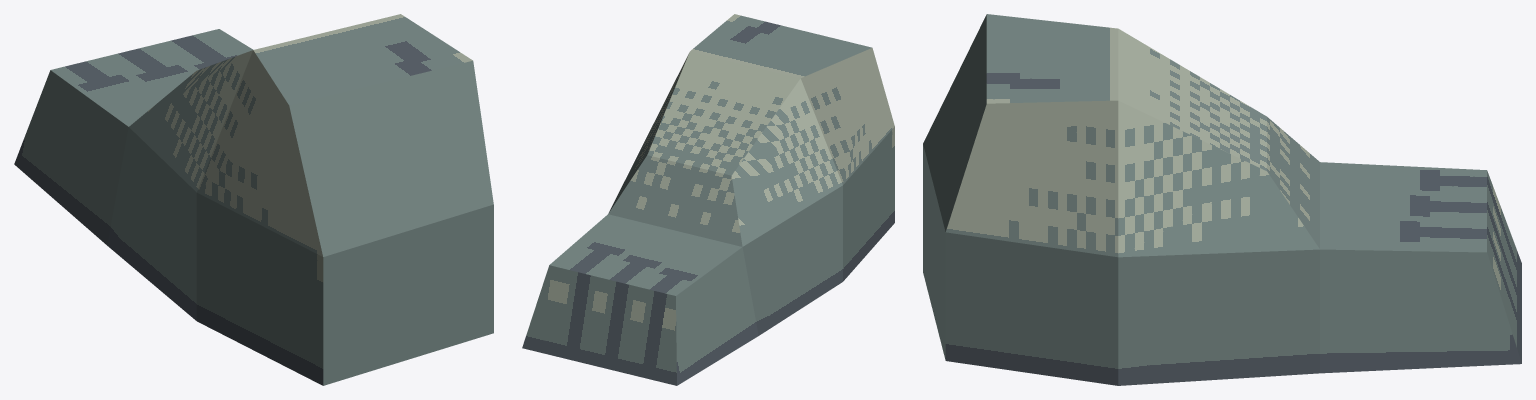
Rendered from god_foot.glb.
3 renders of one model, left to right at view 1: azimuth 30°, elevation 25°; view 2: azimuth 150°, elevation 25°; view 3: azimuth 270°, elevation 25°, orthographic. The views are drawn at different scales.
Visible parts, largest first — view 1: Cube.193; view 2: Cube.193; view 3: Cube.193.
Part boxes in pixels (x1,y1,x2,y2): Cube.193: (14,14,493,385); Cube.193: (522,14,894,385); Cube.193: (923,14,1521,385).
Bounding box in the file's own units: 1.72 × 1.63 × 3.41.
1 material, 1 textured.
